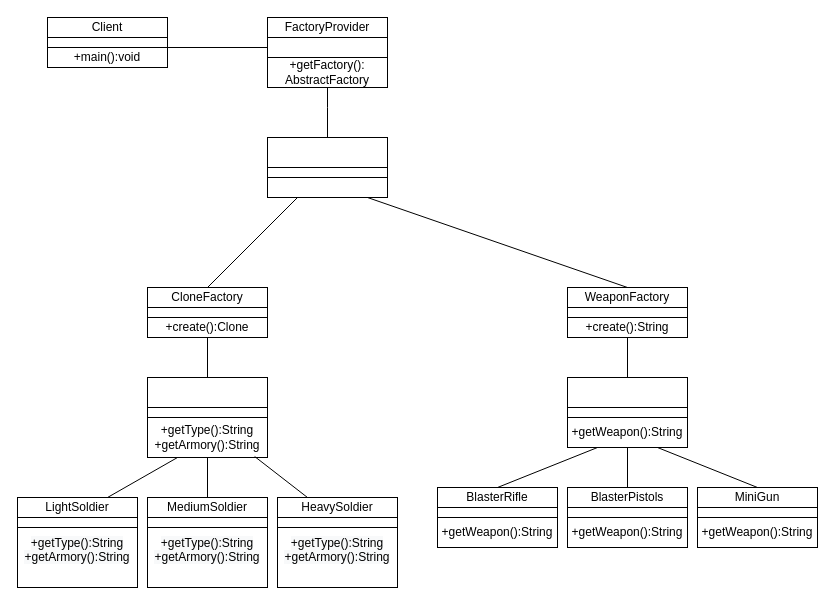
Image size: 835x611. Some labels were removed from this diagram. The shapes that lost their labels are listed below. From the top down, each one's centre as x and y in pixels, then its label:
(x=327, y=152): <<interface>> AbstractFactory
(x=327, y=187): +create():T
(x=207, y=392): <<interface>> Clone
(x=627, y=392): <<interface>> Weapon
